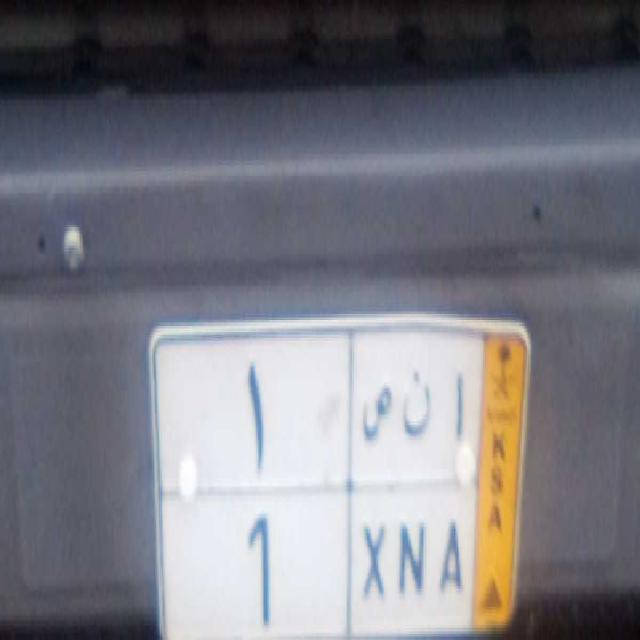license_plate: (164, 484, 476, 640)
